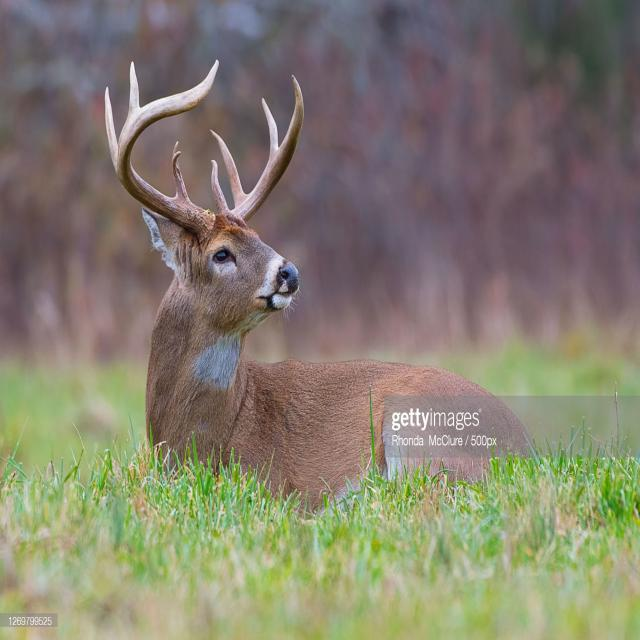L-F: (226, 74, 304, 228)
L-G1: (210, 159, 230, 214)
L-G2: (210, 129, 246, 208)
L-G3: (261, 97, 278, 157)
R-F: (118, 59, 219, 242)
R-G1: (172, 140, 190, 201)
R-G2: (104, 86, 120, 181)
R-G3: (128, 61, 140, 114)
